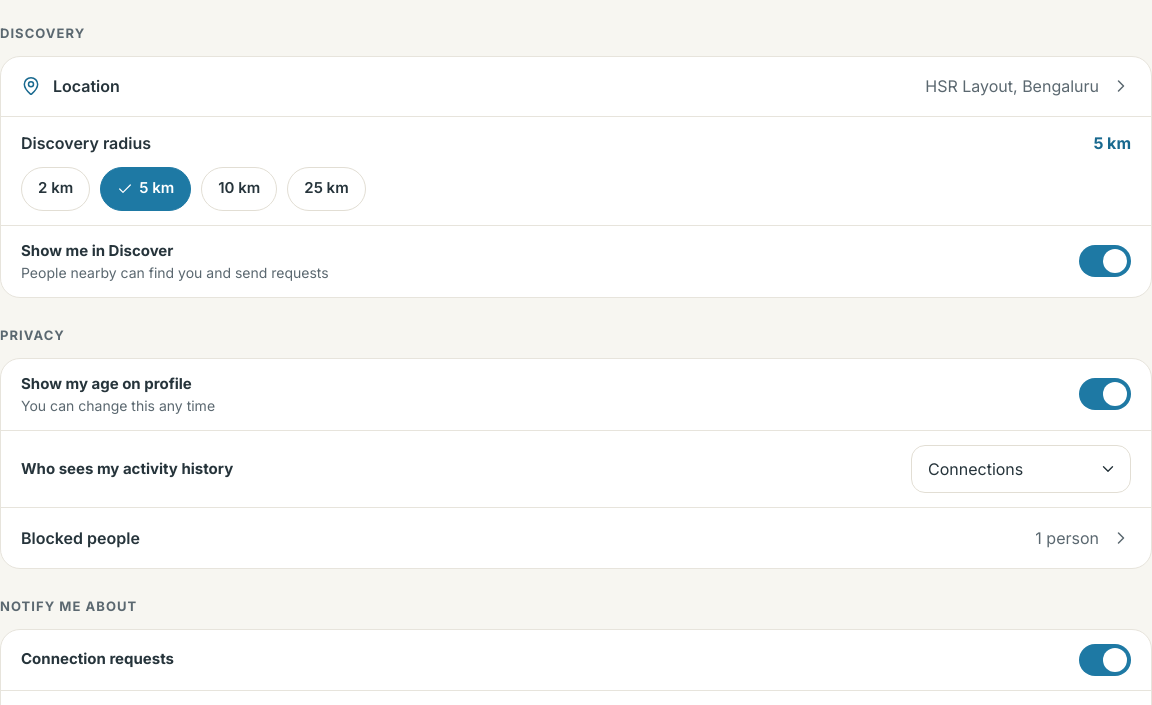
Test: S22 settings form › rolls back with an error toast when saving fails
What coordinates should you click on to do the following:
click the switch named "Show my age on profile" in the row of "You can change this any time"
I would click on:
 (1105, 394)
Its box is 1079,378 -> 1131,410.
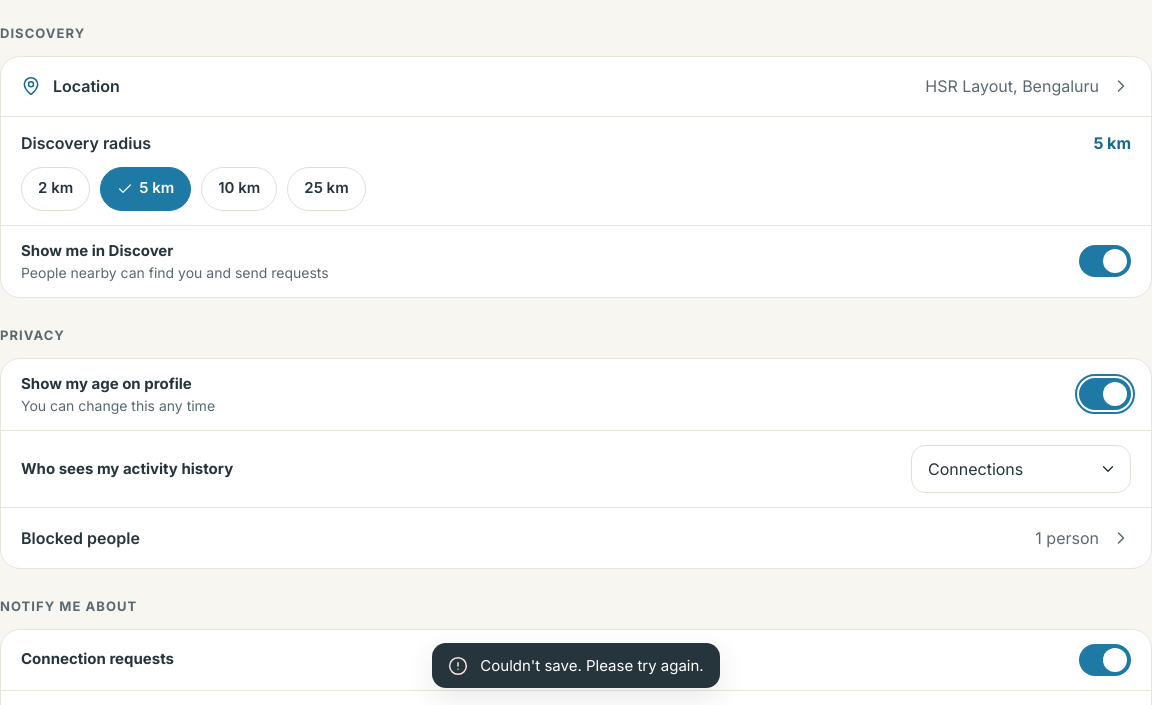
Check: the text "Couldn't save. Please try again." is shown, box 480,655 -> 704,676
